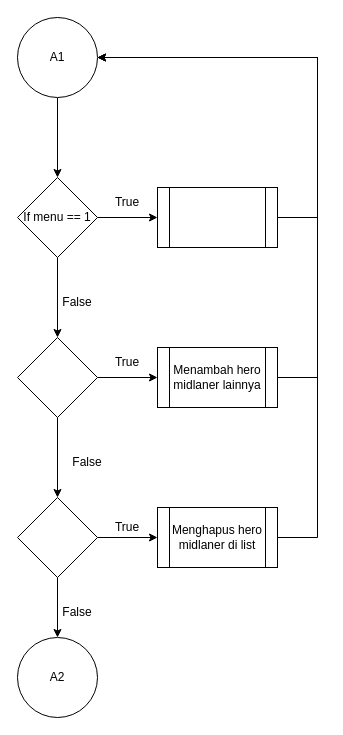
The diagram is 343 pixels wide and 735 high, and some of its shapes have lost their labels. The centre of each missing label's shape, as x and y in pixels:
"If menu == 2" belongs at (57,377).
"If menu == 3" belongs at (57,537).
"Menampilkan data hero midlaner" belongs at (217,217).
